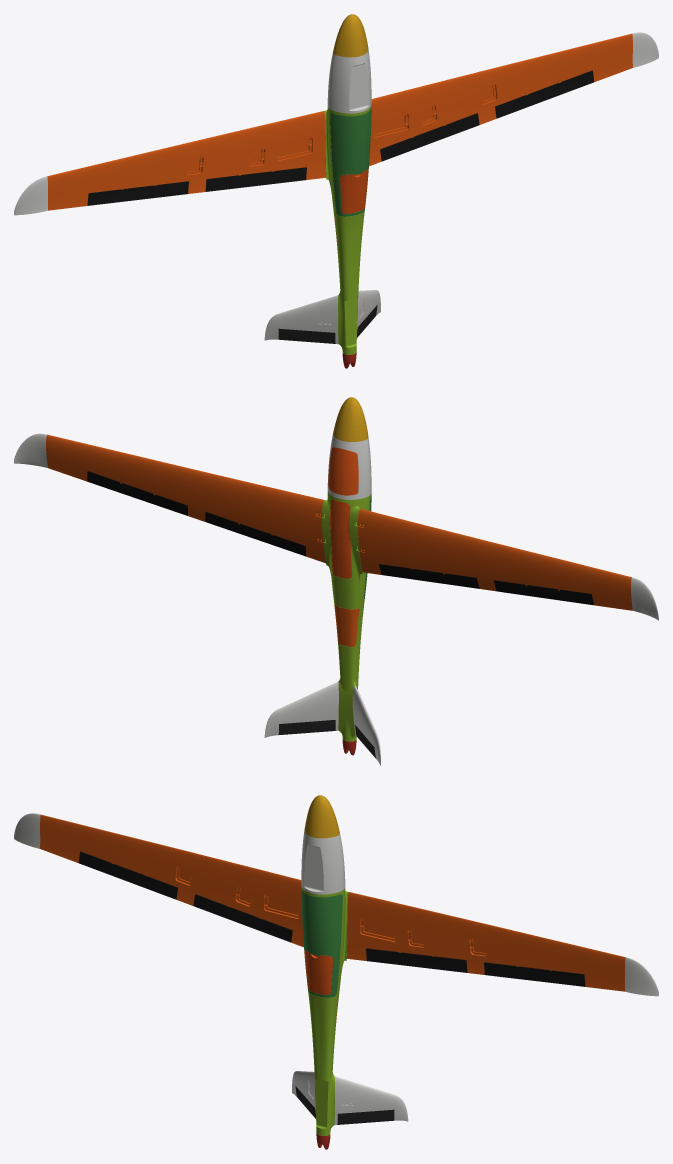
File: Sharkee.glb
3 renders of one model, top to bottom at view 1: azimuth 30°, elevation 25°; view 2: azimuth 150°, elevation 25°; view 3: azimuth 330°, elevation 25°, orthographic.
Visible parts, largest first — view 1: 3MFMeshParent_24, 3MFMeshParent_25, 3MFMeshParent_7, 3MFMeshParent_16, 3MFMeshParent_1, 3MFMeshParent_17, 3MFMeshParent_2, 3MFMeshParent_3, 3MFMeshParent_4, 3MFMeshParent_18, 3MFMeshParent_20, 3MFMeshParent_23 (+8 smaller); view 2: 3MFMeshParent_25, 3MFMeshParent_24, 3MFMeshParent_5, 3MFMeshParent_29, 3MFMeshParent_0, 3MFMeshParent_18, 3MFMeshParent_2, 3MFMeshParent_1, 3MFMeshParent_16, 3MFMeshParent_17, 3MFMeshParent_7, 3MFMeshParent_6 (+9 smaller); view 3: 3MFMeshParent_25, 3MFMeshParent_24, 3MFMeshParent_5, 3MFMeshParent_17, 3MFMeshParent_2, 3MFMeshParent_16, 3MFMeshParent_1, 3MFMeshParent_3, 3MFMeshParent_4, 3MFMeshParent_18, 3MFMeshParent_20, 3MFMeshParent_23 (+8 smaller).
Part boxes in pixels (left/top/right/bottom): 3MFMeshParent_24: left=47, top=111, right=326, bottom=210; 3MFMeshParent_25: left=369, top=33, right=632, bottom=166; 3MFMeshParent_7: left=264, top=295, right=338, bottom=343; 3MFMeshParent_16: left=205, top=167, right=306, bottom=191; 3MFMeshParent_1: left=87, top=181, right=188, bottom=205; 3MFMeshParent_17: left=380, top=113, right=479, bottom=161; 3MFMeshParent_2: left=495, top=70, right=594, bottom=118; 3MFMeshParent_3: left=328, top=49, right=371, bottom=88; 3MFMeshParent_4: left=327, top=80, right=371, bottom=113; 3MFMeshParent_18: left=333, top=14, right=368, bottom=57; 3MFMeshParent_20: left=331, top=133, right=370, bottom=168; 3MFMeshParent_23: left=340, top=169, right=368, bottom=213; 3MFMeshParent_25: left=46, top=434, right=325, bottom=563; 3MFMeshParent_24: left=358, top=508, right=632, bottom=610; 3MFMeshParent_5: left=264, top=682, right=338, bottom=737; 3MFMeshParent_29: left=330, top=499, right=351, bottom=578; 3MFMeshParent_0: left=328, top=447, right=358, bottom=495; 3MFMeshParent_18: left=333, top=397, right=368, bottom=441; 3MFMeshParent_2: left=87, top=471, right=187, bottom=515; 3MFMeshParent_1: left=493, top=580, right=593, bottom=605; 3MFMeshParent_16: left=379, top=564, right=479, bottom=588; 3MFMeshParent_17: left=205, top=511, right=305, bottom=556; 3MFMeshParent_7: left=352, top=686, right=380, bottom=765; 3MFMeshParent_6: left=14, top=433, right=47, bottom=467; 3MFMeshParent_25: left=346, top=892, right=625, bottom=991; 3MFMeshParent_24: left=40, top=814, right=303, bottom=947; 3MFMeshParent_5: left=334, top=1076, right=408, bottom=1124; 3MFMeshParent_17: left=366, top=948, right=467, bottom=972; 3MFMeshParent_2: left=484, top=962, right=585, bottom=986; 3MFMeshParent_16: left=193, top=894, right=292, bottom=942; 3MFMeshParent_1: left=78, top=851, right=177, bottom=899; 3MFMeshParent_3: left=301, top=830, right=344, bottom=869; 3MFMeshParent_4: left=301, top=861, right=345, bottom=894; 3MFMeshParent_18: left=304, top=795, right=339, bottom=838; 3MFMeshParent_20: left=302, top=914, right=341, bottom=949; 3MFMeshParent_23: left=304, top=950, right=332, bottom=994.
Bounding box in the file's own units: 2584 × 1359 × 264.
